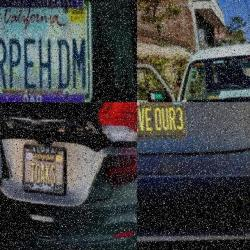LicensePlate: (0, 0, 91, 102), (16, 140, 66, 198), (137, 102, 187, 146)
